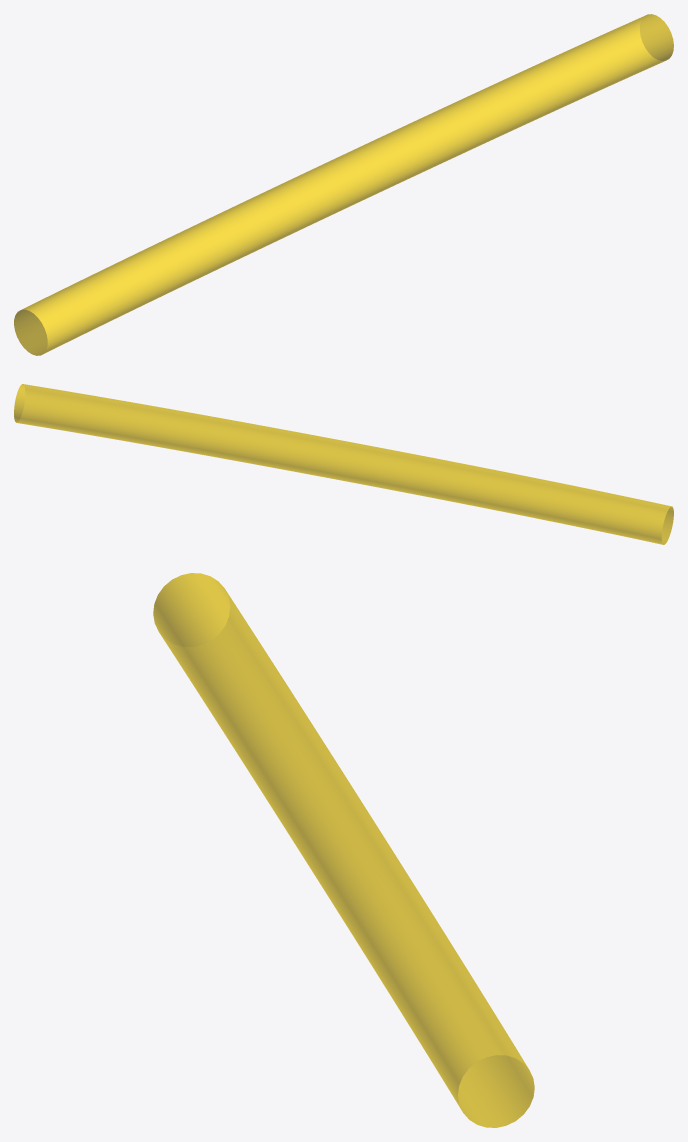
File: Event_100608114_track_105.fbx
The picture shows the model from 3 angles, top to bottom: view 1: azimuth 30°, elevation 25°; view 2: azimuth 150°, elevation 25°; view 3: azimuth 270°, elevation 25°; orthographic projection. The views are drawn at different scales.
Visible parts, largest first — view 1: Model; view 2: Model; view 3: Model.
Boxes of the visible parts, x1,y1,x2,y2 form: Model: (14, 14, 673, 355); Model: (14, 384, 673, 544); Model: (153, 573, 534, 1127).
Bounding box in the file's own units: 0.6781 × 0.0829 × 0.1932.
